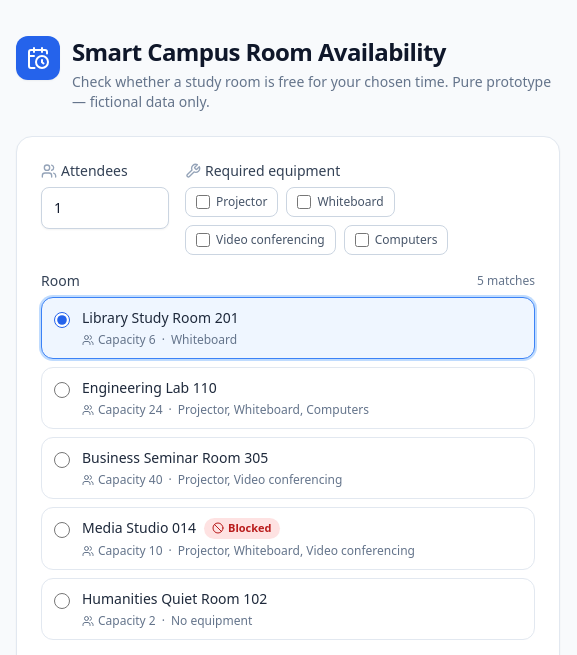
Scenario: AC3 – blocked room rejects every request › accepts the same slot in a non-blocked room (lib-201)
The width and height of the screenshot is (577, 655).
Step 1. Click the 4th radio button → [62, 530], box [54,522,70,538]
(page scrolled)
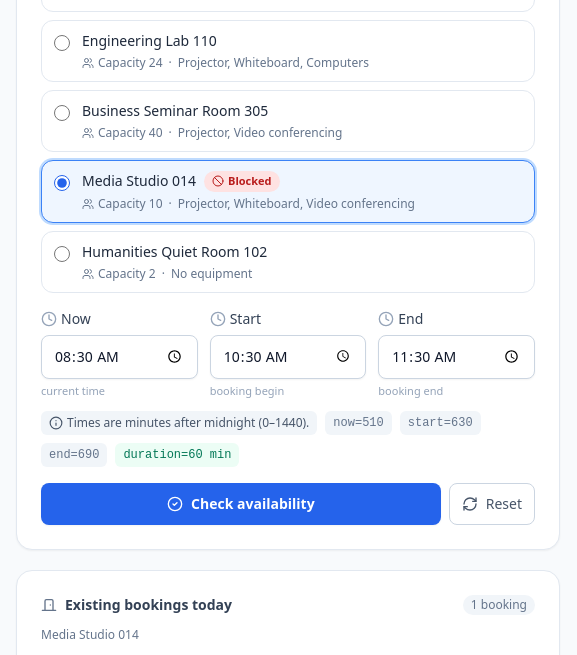
Step 2. Replace the text in the time field labelled "Now" with "08:00" → [119, 356], box [41,334,198,378]
Step 3. Replace the text in the time field labelled "Start" with "13:00" → [288, 356], box [210,334,366,378]
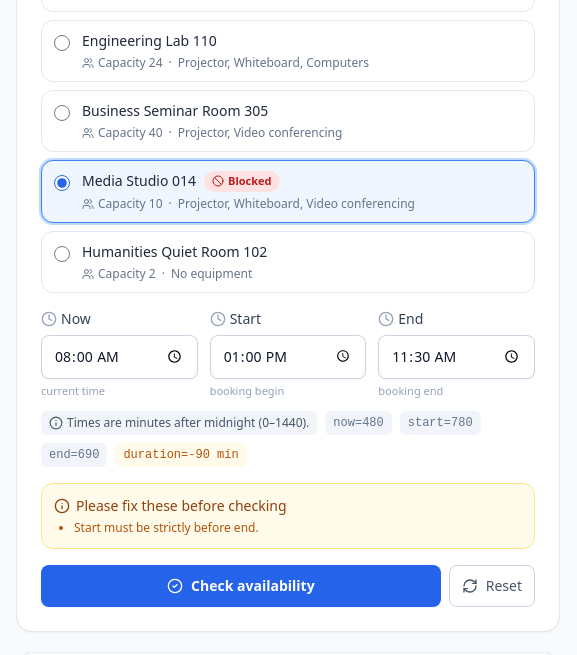
Step 4. Replace the text in the time field labelled "End" with "14:00" → [457, 356], box [378,334,535,378]
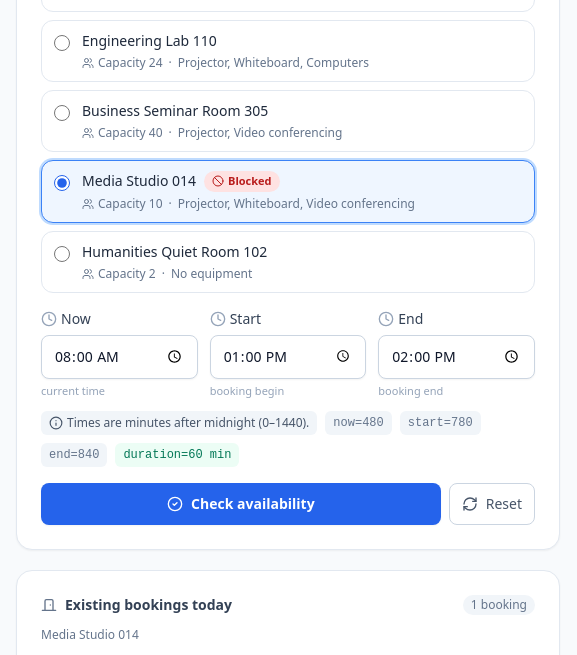
Step 5. Click the button "Check availability" → [241, 504], box [41,483,441,525]
(page scrolled)
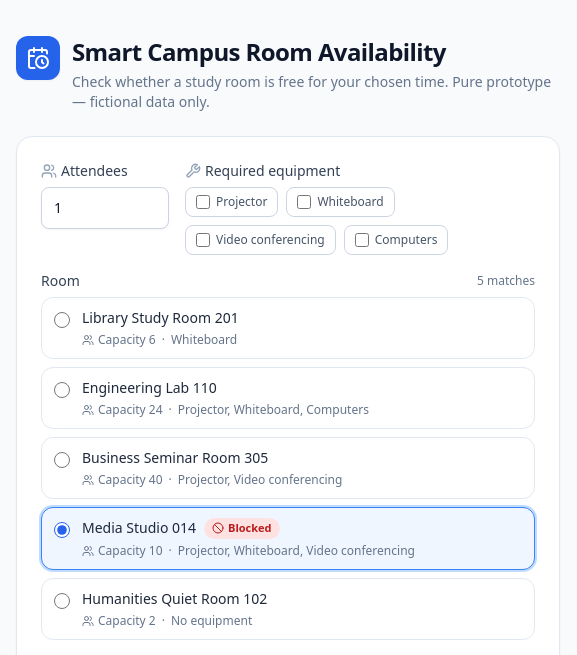
Step 6. Click the radio button labelled "Library Study Room 201 Capacity 6 · Whiteboard" → [62, 320], box [54,312,70,328]
(page scrolled)
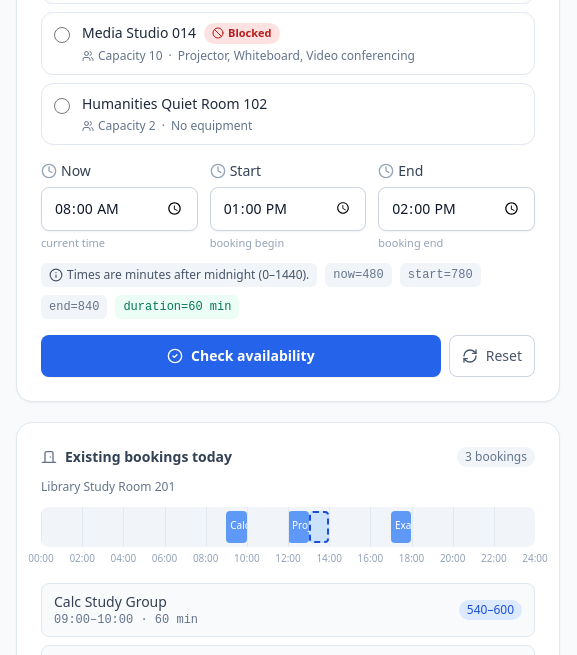
Step 7. Click the button "Check availability" → [241, 356], box [41,335,441,377]
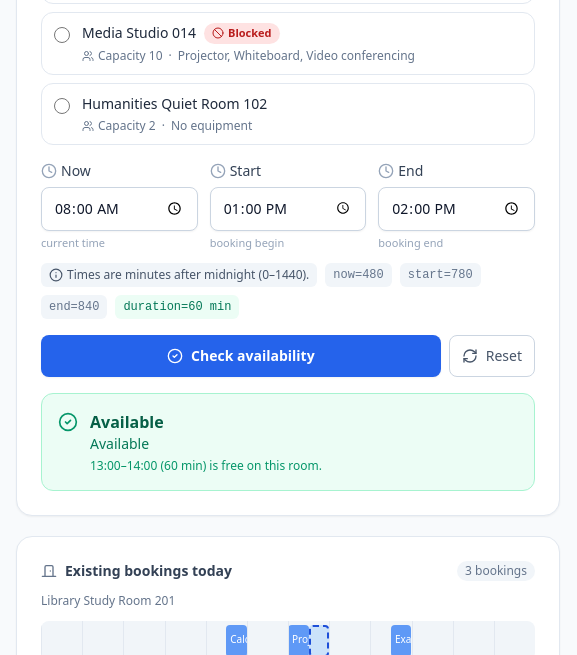
Result: the message does not show "Unavailable" at [41,393,535,491]
Result: the message shows "Available" at [90,411,164,433]
